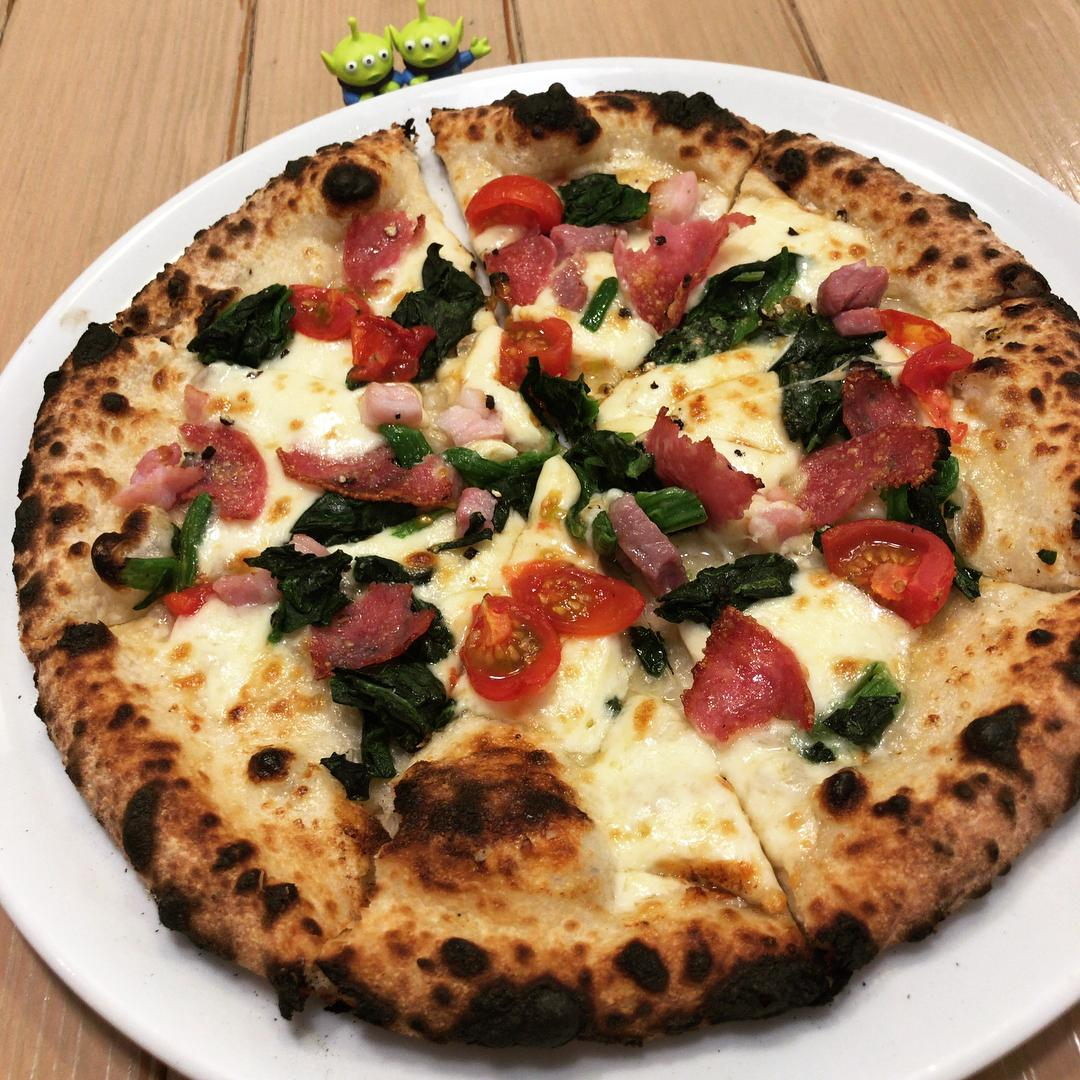Basil: (633, 249, 807, 369), (325, 680, 456, 806), (502, 390, 641, 487), (770, 314, 865, 424), (190, 279, 284, 364), (388, 247, 486, 318)
Pepperoni: (680, 608, 818, 745), (605, 211, 751, 321), (772, 425, 945, 513), (277, 440, 465, 513), (643, 408, 761, 523), (301, 578, 435, 679), (175, 419, 271, 524)
Pizza: (18, 93, 1080, 1041)
Tomatoes: (821, 519, 959, 627), (462, 592, 565, 704), (515, 558, 648, 639), (880, 307, 976, 400), (497, 316, 574, 388), (462, 177, 564, 230), (284, 281, 373, 340), (350, 320, 430, 378)
